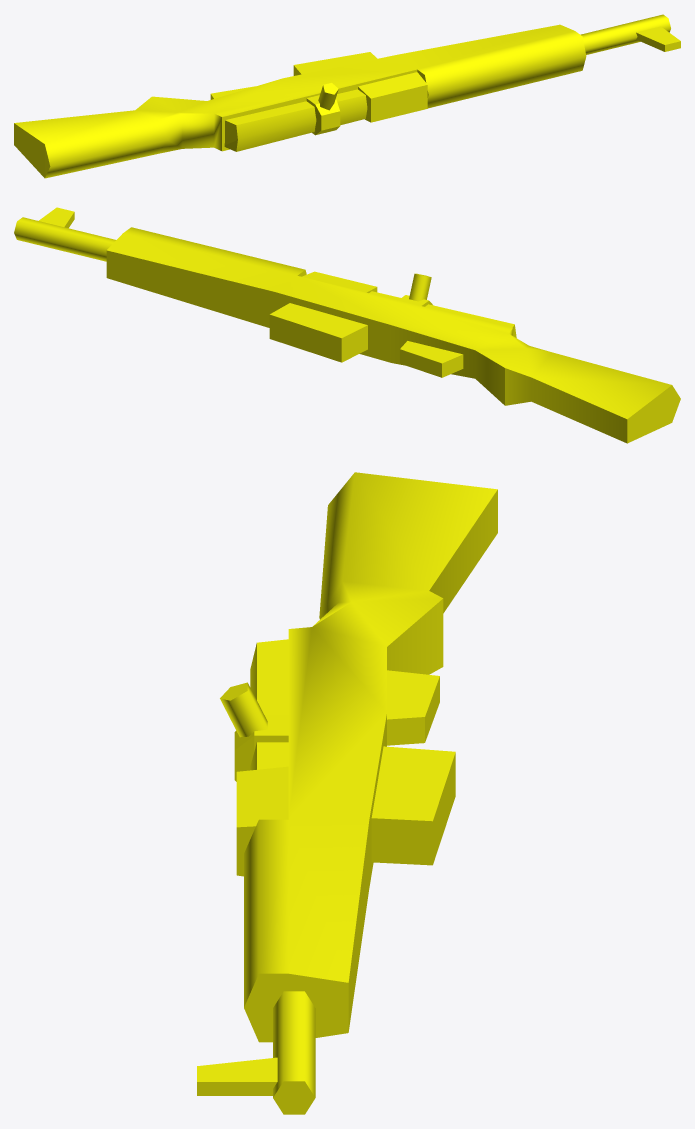
The model's file is weapon_g43.glb.
3 renders of one model, top to bottom at view 1: azimuth 30°, elevation 25°; view 2: azimuth 150°, elevation 25°; view 3: azimuth 270°, elevation 25°, orthographic. The views are drawn at different scales.
Parts seen in each view (by area): view 1: weapon_g43; view 2: weapon_g43; view 3: weapon_g43.
Boxes of the visible parts, <box> form: weapon_g43: <box>14,14,680,178</box>; weapon_g43: <box>14,207,680,443</box>; weapon_g43: <box>197,472,497,1114</box>.
Bounding box in the file's own units: 1.77 × 0.1447 × 0.3799.
Materials: 1 (1 with a texture image).
